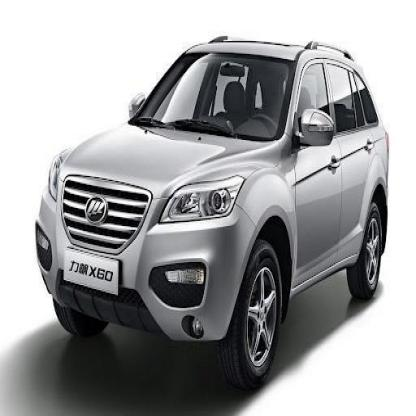Car: (33, 31, 402, 358)
